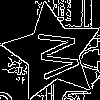W: (28, 28, 80, 82)
